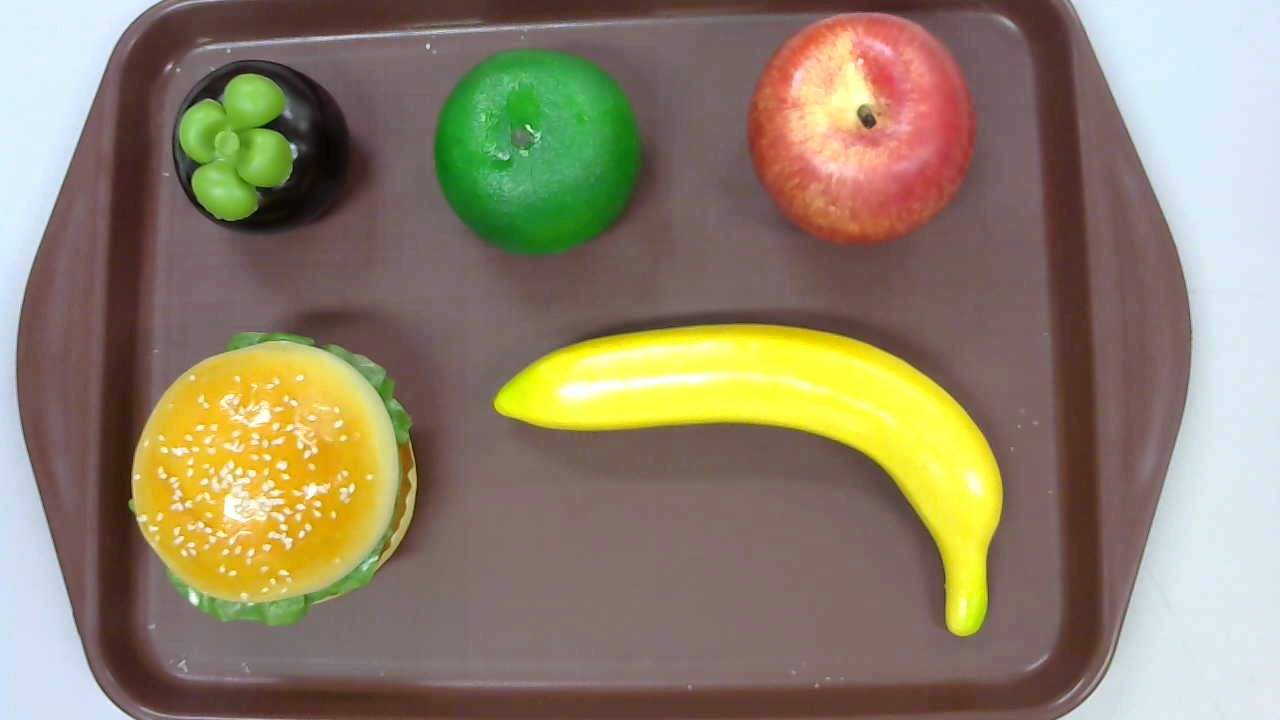banana: (493, 321, 1002, 637)
green orange: (434, 49, 641, 256)
hamburger: (127, 331, 418, 628)
mangosteen: (172, 59, 349, 234)
red apple: (747, 12, 976, 247)
